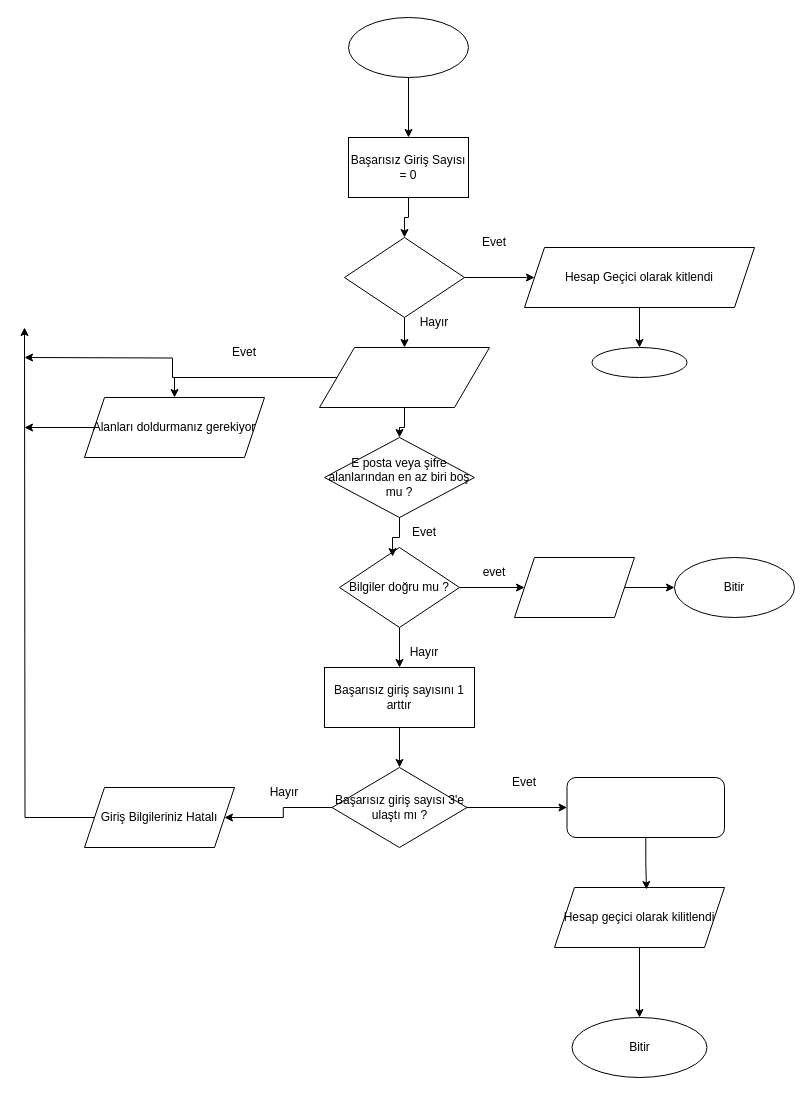
This 812x1095 diagram has some shape labels left out. Here are the shapes that lost their labels. From the top down, the centre of each, then its label:
At [408,47]: "Başla".
At [404,277]: "Hesap Kilitli mi ?".
At [404,377]: "E Posta veya şifre al".
At [639,362]: "BİTİR".
At [574,587]: "Başarılı Giriş".
At [645,807]: "Hesabı Kilitle".
